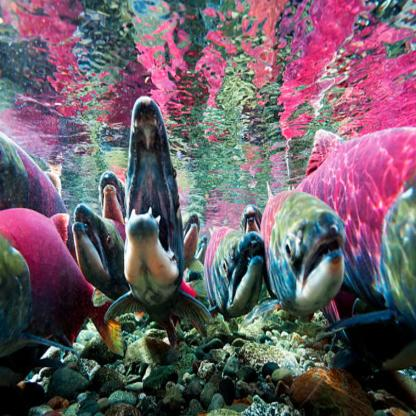sockeye: (309, 129, 416, 312), (1, 207, 115, 354), (127, 92, 190, 334), (266, 184, 346, 329), (2, 129, 69, 233), (208, 224, 264, 330), (74, 198, 122, 290)
sockeye-group: (0, 101, 208, 334)
